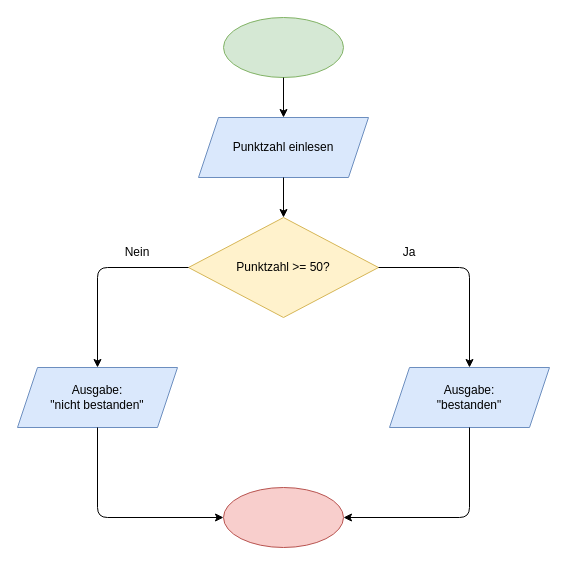
The diagram is 567 pixels wide and 565 high, and some of its shapes have lost their labels. The centre of each missing label's shape, as x and y in pixels:
Ende: the point at 283,517
Start: the point at 283,47
